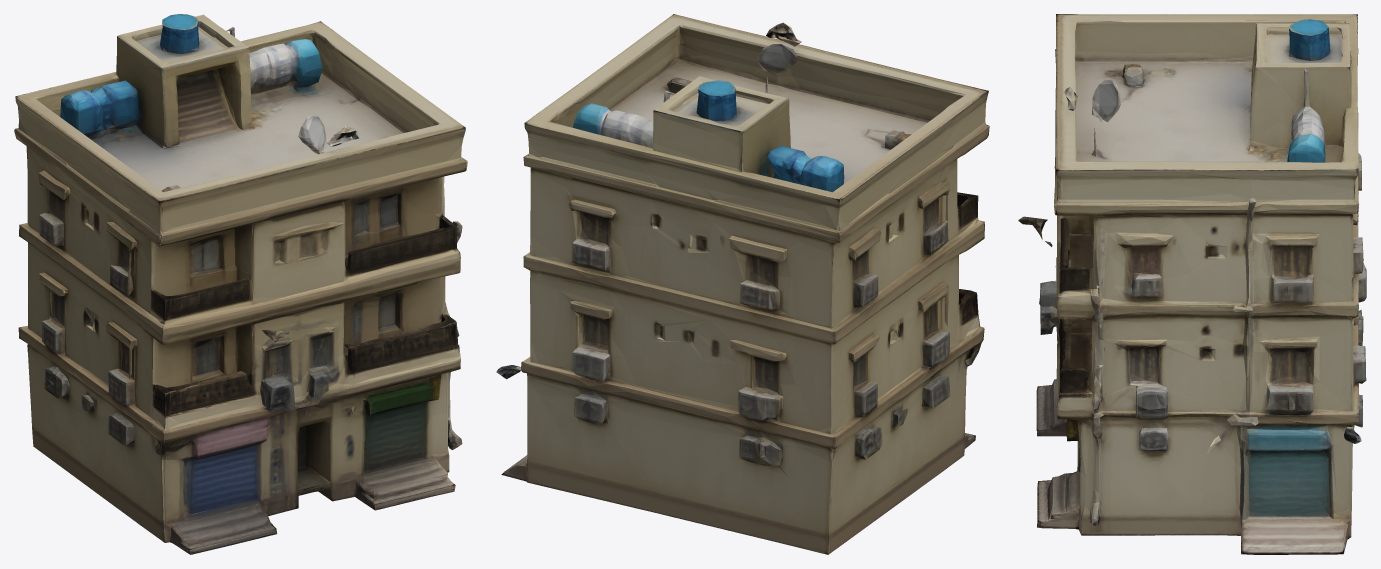
Rendered from apartment_building.glb.
The picture shows the model from 3 angles, left to right: view 1: azimuth 30°, elevation 25°; view 2: azimuth 150°, elevation 25°; view 3: azimuth 270°, elevation 25°; orthographic projection. The views are drawn at different scales.
Visible parts, largest first — view 1: world; view 2: world; view 3: world.
Part boxes in pixels (x1,y1,x2,y2): world: (14,14,467,554); world: (496,14,989,554); world: (1018,14,1366,554).
Size of the model in its own units: 0.4234 by 0.4947 by 0.364.
1 material, 1 textured.
